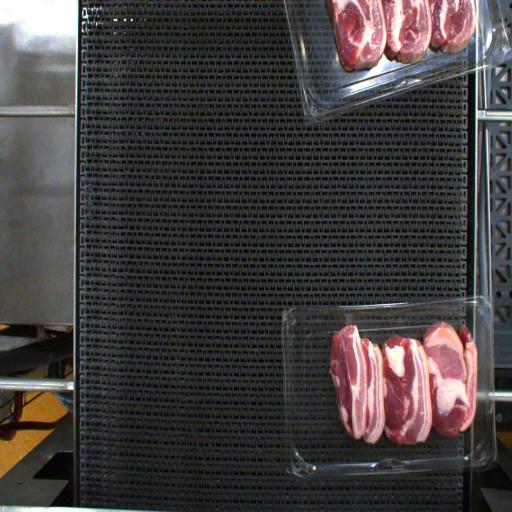packaging-error: (338, 294, 358, 333)
